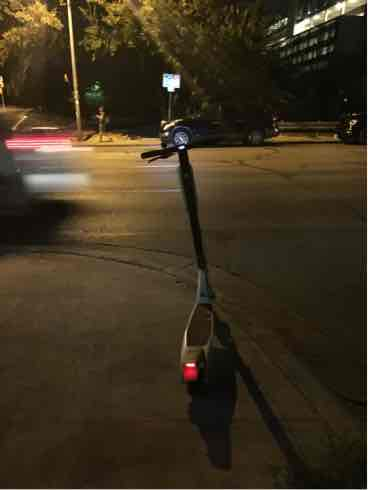scooter: (132, 121, 244, 433)
